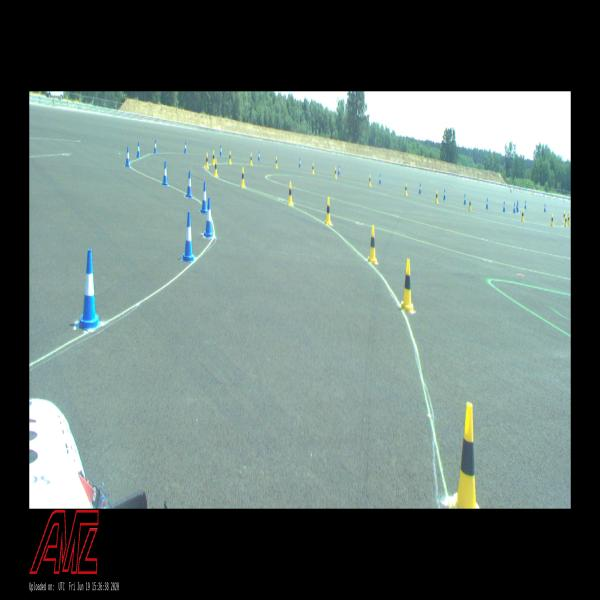blue_cone: (79, 249, 100, 328), (182, 212, 194, 262), (204, 198, 213, 238), (186, 170, 193, 198), (201, 182, 207, 213), (162, 161, 168, 186), (125, 147, 130, 167), (136, 141, 140, 158), (154, 140, 157, 153), (184, 141, 187, 153), (443, 189, 446, 200), (463, 194, 466, 204), (258, 151, 261, 161), (513, 202, 515, 213), (486, 199, 488, 210), (503, 201, 505, 212), (220, 145, 222, 156), (419, 183, 421, 194), (338, 165, 340, 175), (379, 174, 381, 184), (516, 200, 518, 210), (524, 200, 526, 209), (299, 158, 301, 167), (517, 203, 519, 212), (544, 204, 546, 212)
yellow_cone: (449, 403, 480, 507), (401, 259, 413, 312), (368, 226, 377, 262), (325, 198, 331, 225), (288, 182, 293, 206), (241, 167, 245, 187), (214, 158, 218, 177), (205, 153, 209, 168), (468, 198, 472, 211), (550, 214, 554, 226), (212, 151, 215, 165), (435, 190, 438, 203), (250, 153, 253, 165), (404, 183, 407, 195), (521, 209, 524, 221), (275, 157, 278, 168), (334, 168, 337, 178), (229, 150, 231, 163), (369, 175, 371, 186), (312, 163, 314, 174), (565, 216, 567, 227), (567, 211, 569, 220), (563, 212, 565, 220), (568, 216, 570, 224)
